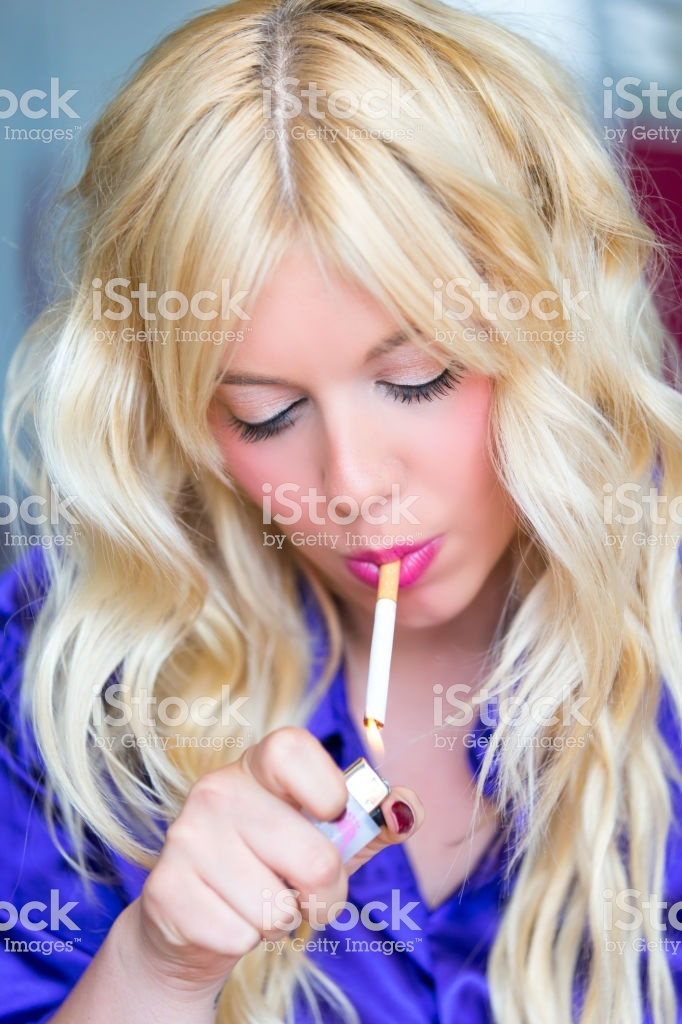sigaretta: (358, 544, 402, 739)
